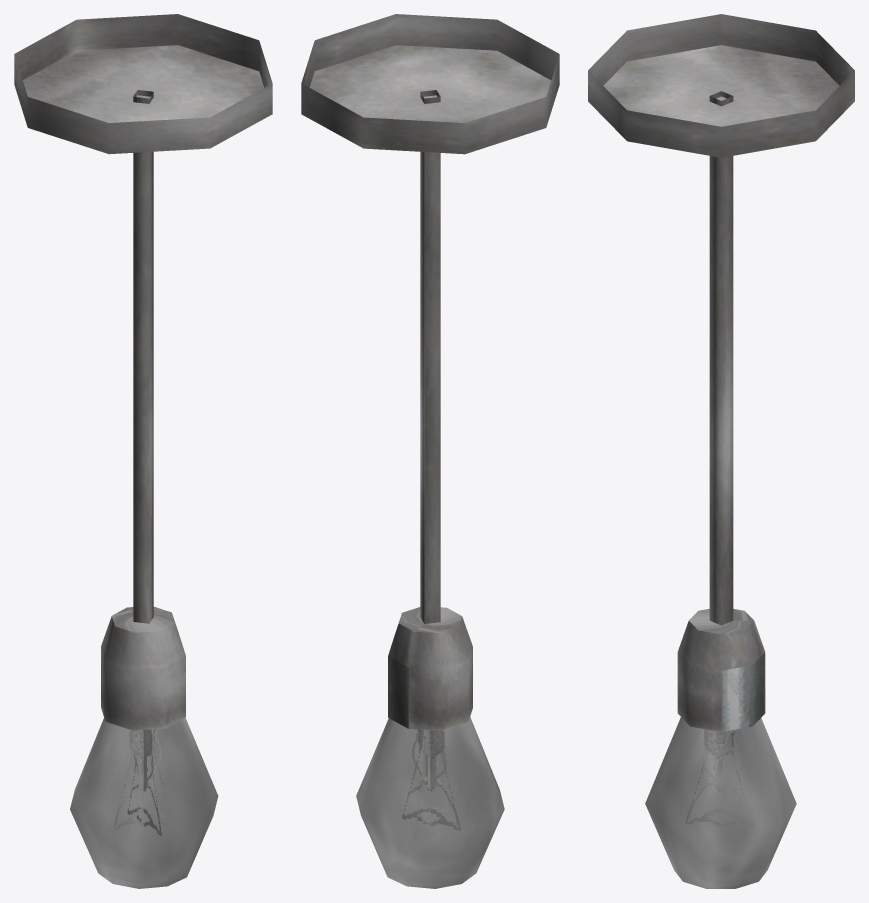
File: cj_mlight8.obj
3 renders of one model, left to right at view 1: azimuth 30°, elevation 25°; view 2: azimuth 150°, elevation 25°; view 3: azimuth 270°, elevation 25°, orthographic.
Parts seen in each view (by area): view 1: CJ_MLIGHT8; view 2: CJ_MLIGHT8; view 3: CJ_MLIGHT8.
Part boxes in pixels (bbox=[...]): CJ_MLIGHT8: bbox=[14, 14, 272, 888]; CJ_MLIGHT8: bbox=[301, 14, 559, 888]; CJ_MLIGHT8: bbox=[588, 14, 854, 888].
Size of the model in its own units: 0.1389 by 0.4671 by 0.1389.
Materials: 5 (4 with a texture image).
